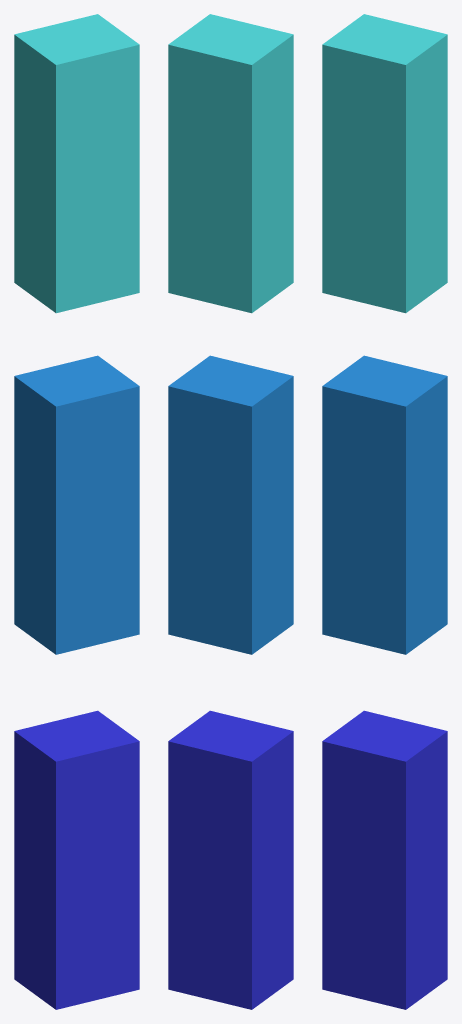
3 renders of one model, left to right at view 1: azimuth 30°, elevation 25°; view 2: azimuth 150°, elevation 25°; view 3: azimuth 330°, elevation 25°, orthographic.
Parts seen in each view (by area): view 1: 立方体.001, 立方体, 立方体.002; view 2: 立方体.001, 立方体, 立方体.002; view 3: 立方体.001, 立方体, 立方体.002.
Boxes of the visible parts, x1=… form: 立方体.001: x1=14, y1=355, x2=139, y2=654; 立方体: x1=14, y1=14, x2=139, y2=313; 立方体.002: x1=14, y1=710, x2=139, y2=1009; 立方体.001: x1=168, y1=355, x2=293, y2=654; 立方体: x1=168, y1=14, x2=293, y2=313; 立方体.002: x1=168, y1=710, x2=293, y2=1009; 立方体.001: x1=322, y1=355, x2=447, y2=654; 立方体: x1=322, y1=14, x2=447, y2=313; 立方体.002: x1=322, y1=710, x2=447, y2=1009.
Size of what is drawn, in the model's own units: 0.0147 by 0.158 by 0.0127.
